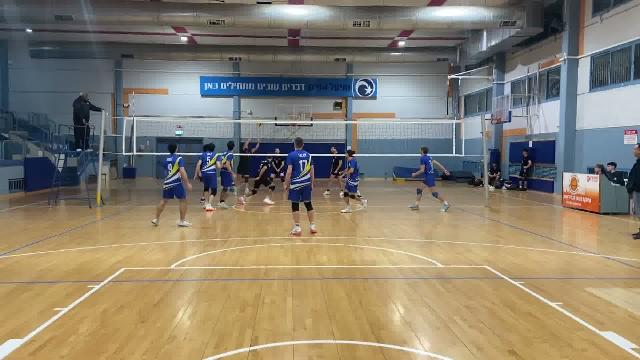ball: (253, 120, 264, 132)
